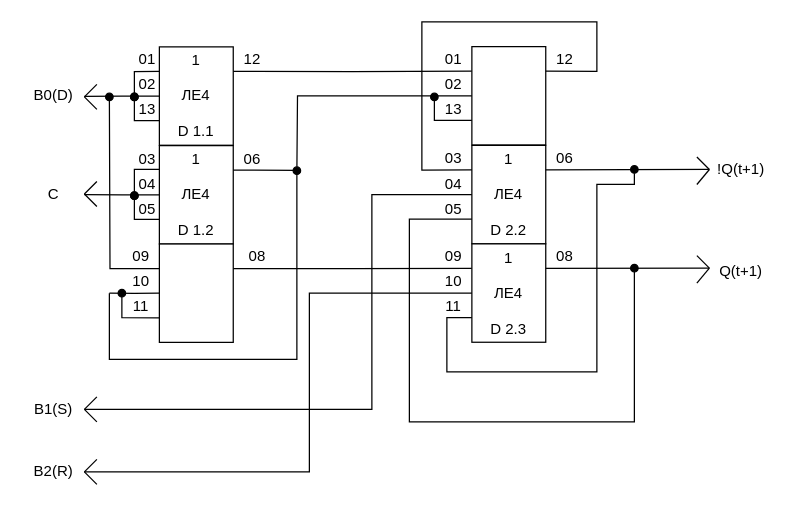
This 793x508 diagram has some shape labels left out. Here are the shapes that lost their labels. From the top down, the centre of each, then its label:
At (508,95): "1 ЛЕ4 D 2.1".
At (195,292): "1 ЛЕ4 D 1.3".
